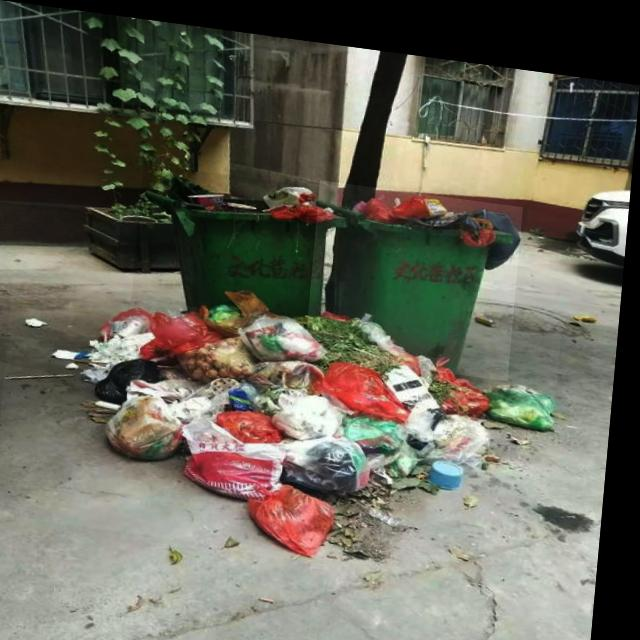garbage: (1, 257, 566, 571)
overflow: (310, 171, 526, 367), (137, 160, 348, 316)
